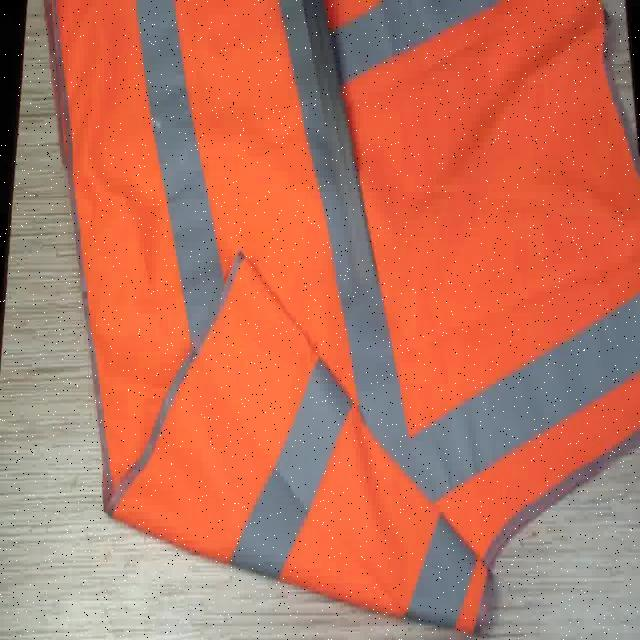Vest: (341, 5, 637, 614)
